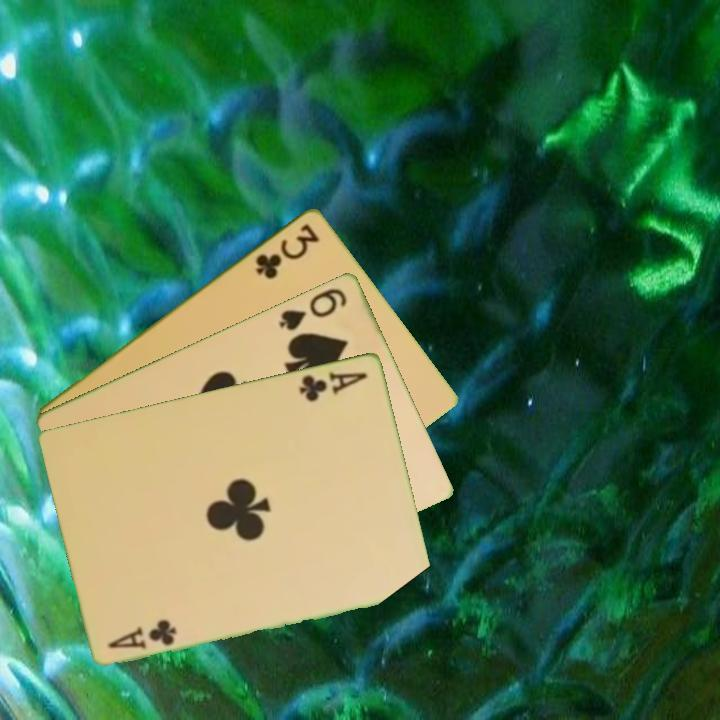3c: (252, 219, 322, 282)
6s: (275, 284, 350, 333)
Ac: (104, 615, 180, 652), (296, 368, 371, 404)
